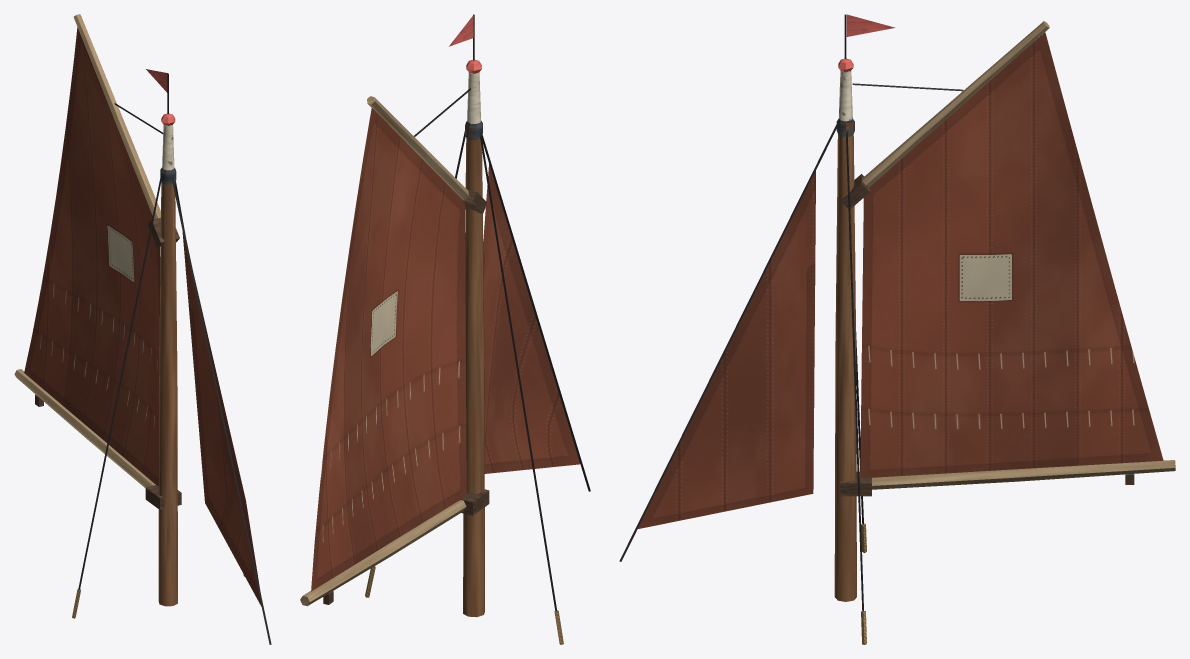
File: puffin-rig.glb
3 views of the same model, side by side, from view 1: azimuth 30°, elevation 25°; view 2: azimuth 150°, elevation 25°; view 3: azimuth 270°, elevation 25° (orthographic). The views are drawn at different scales.
Visible parts, largest first — view 1: Main, puffin-rig, Jib; view 2: Main, Jib, puffin-rig; view 3: Main, Jib, puffin-rig.
Part boxes in pixels (<box>): Main: <box>14,14,181,509</box>; puffin-rig: <box>72,69,271,644</box>; Jib: <box>182,232,261,606</box>; Main: <box>300,88,489,606</box>; Jib: <box>483,163,580,473</box>; puffin-rig: <box>365,14,590,644</box>; Main: <box>840,21,1175,496</box>; Jib: <box>638,171,815,528</box>; puffin-rig: <box>619,14,895,644</box>.
Bounding box in the file's own units: 1.97 × 5.67 × 4.9.
Materials: 1 (1 with a texture image).
